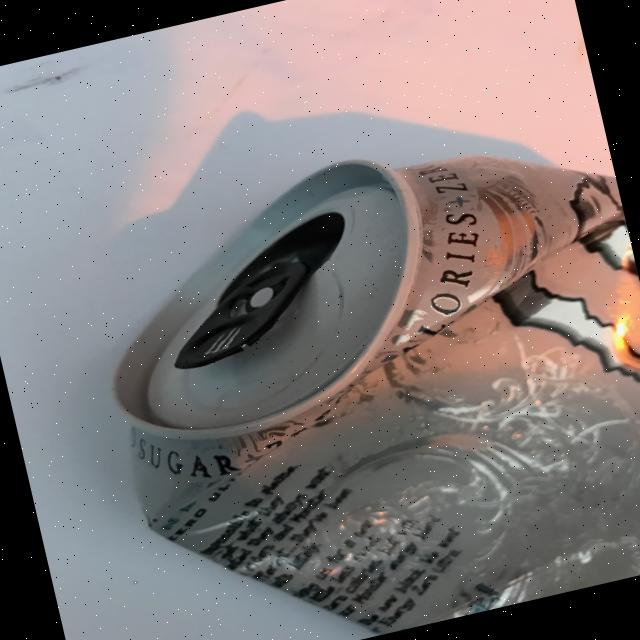metal: (85, 100, 640, 459)
